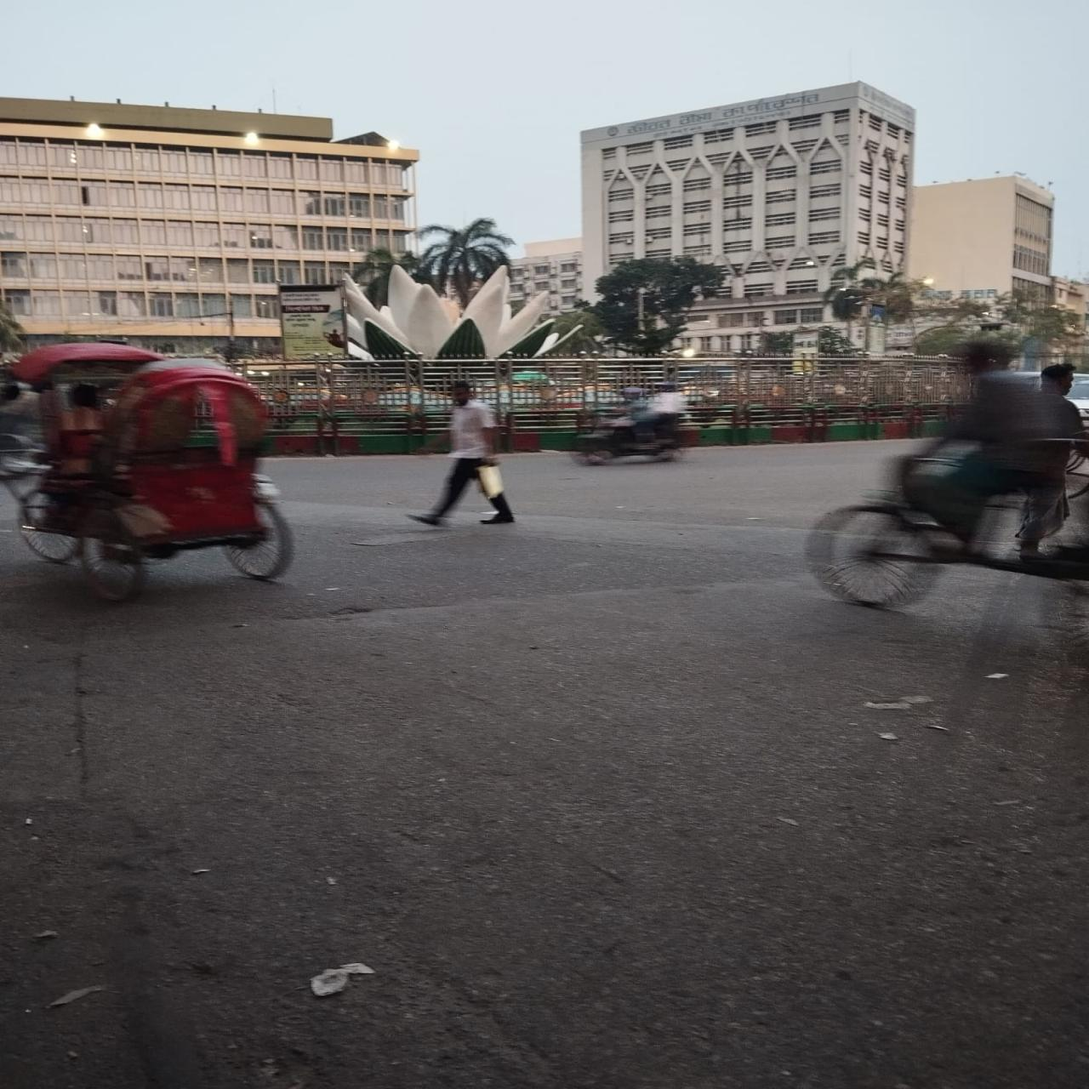person: (409, 378, 520, 528), (1028, 362, 1088, 544)
